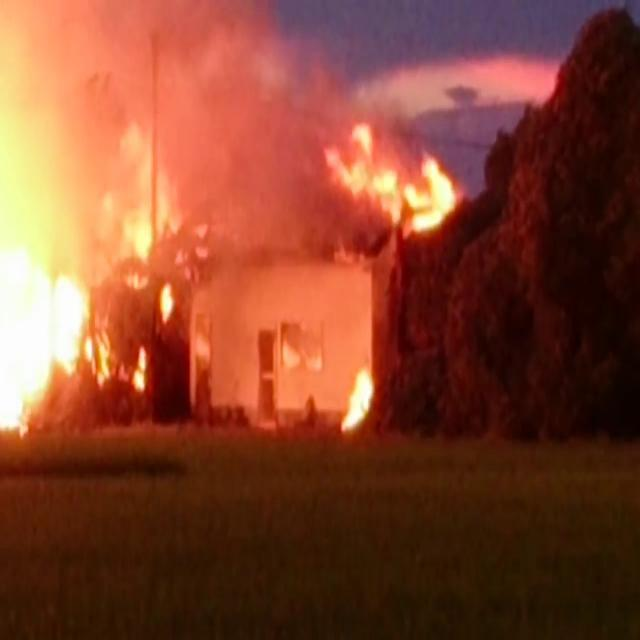Fire: (1, 241, 113, 443), (326, 118, 456, 224), (106, 131, 182, 257), (339, 370, 373, 428), (131, 339, 147, 392), (157, 277, 175, 321)
